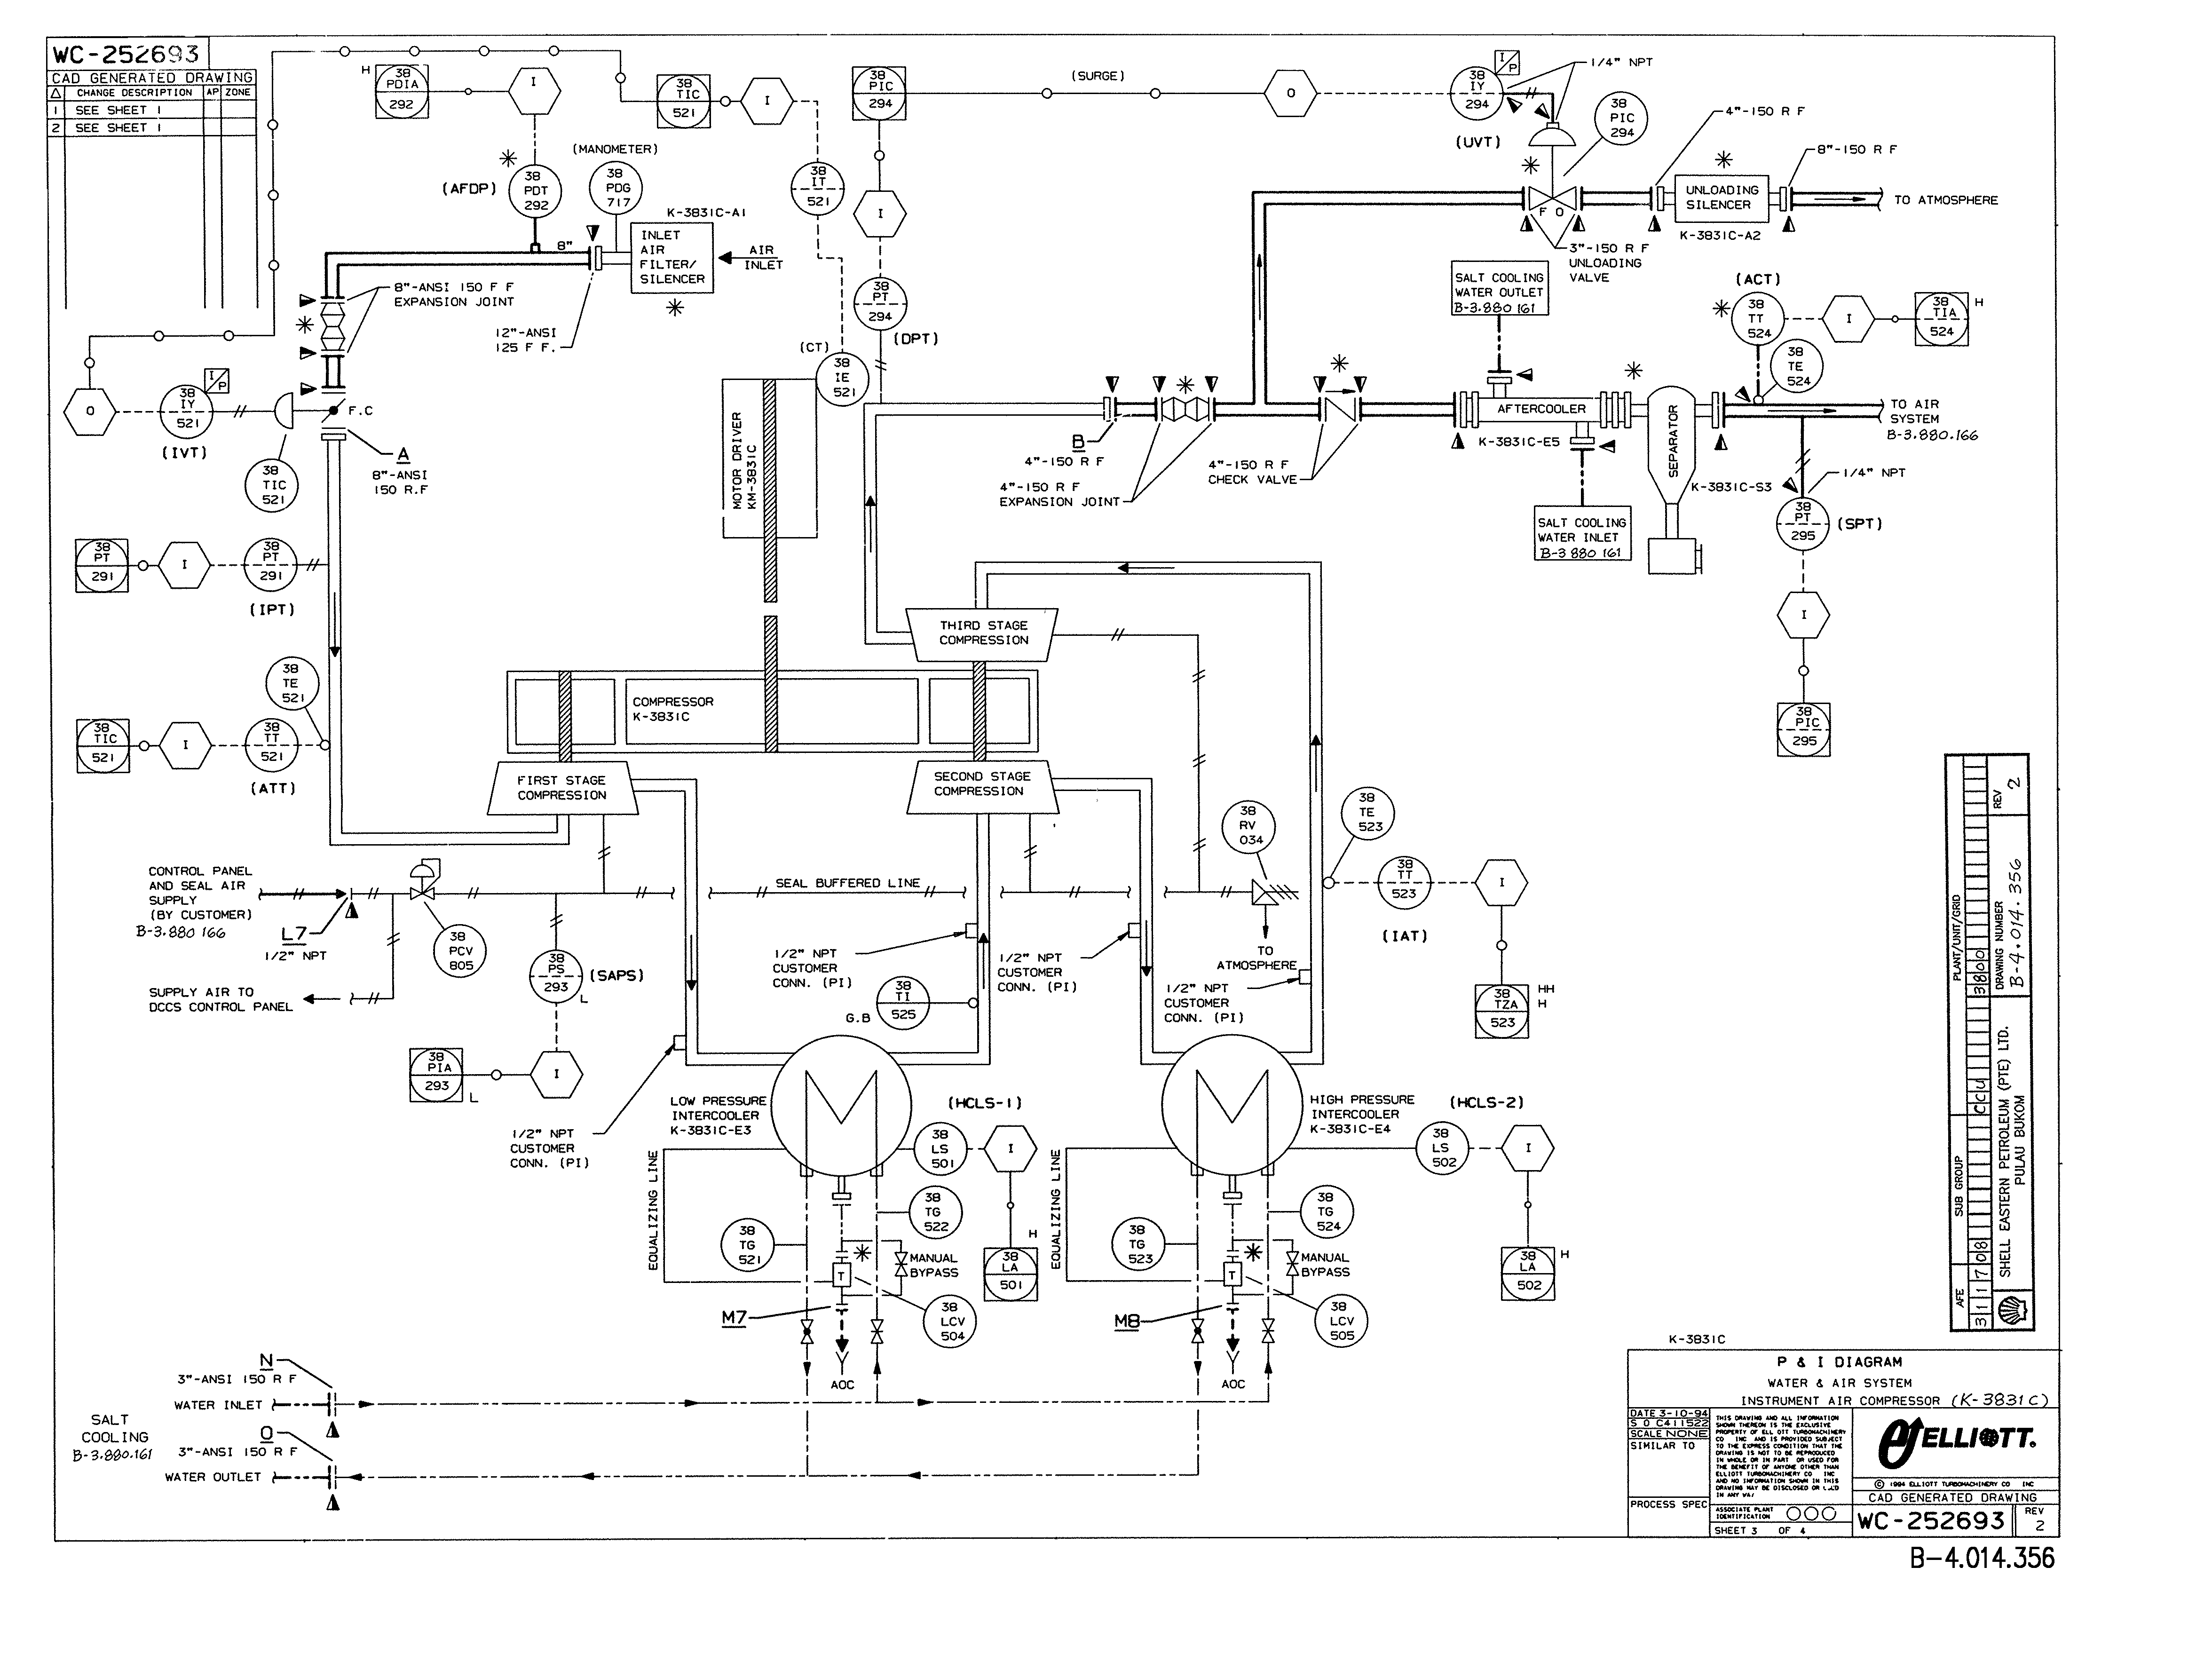Inline Instrument: (1311, 1292, 1372, 1350), (1219, 798, 1280, 855), (1728, 290, 1790, 347), (506, 161, 566, 218), (814, 349, 873, 407), (587, 159, 646, 216), (265, 655, 325, 712), (429, 922, 489, 979), (908, 1184, 967, 1241), (913, 1119, 972, 1177), (1297, 1182, 1357, 1240), (1337, 784, 1397, 841), (1376, 854, 1435, 911), (1767, 337, 1826, 395), (1446, 65, 1505, 122), (1590, 91, 1650, 148), (243, 459, 302, 515), (920, 1292, 979, 1348), (719, 1217, 779, 1273), (1109, 1215, 1168, 1271), (1412, 1119, 1472, 1175)
Panel Instrument: (73, 714, 136, 777), (405, 1042, 468, 1105), (1910, 288, 1973, 351), (72, 534, 134, 595), (978, 1241, 1041, 1302), (1496, 1241, 1559, 1302), (1774, 697, 1835, 759), (372, 61, 433, 122), (848, 61, 910, 122), (655, 70, 716, 131), (1472, 981, 1533, 1042)
